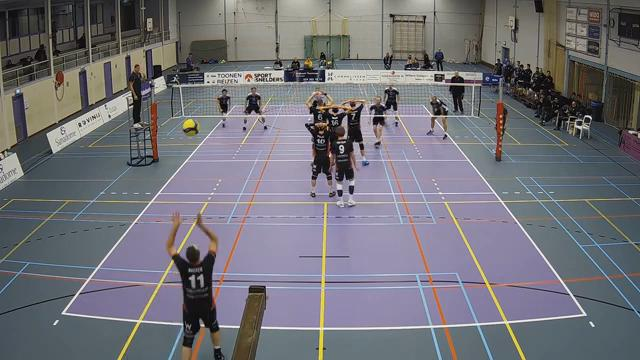battuta: (167, 205, 224, 359)
